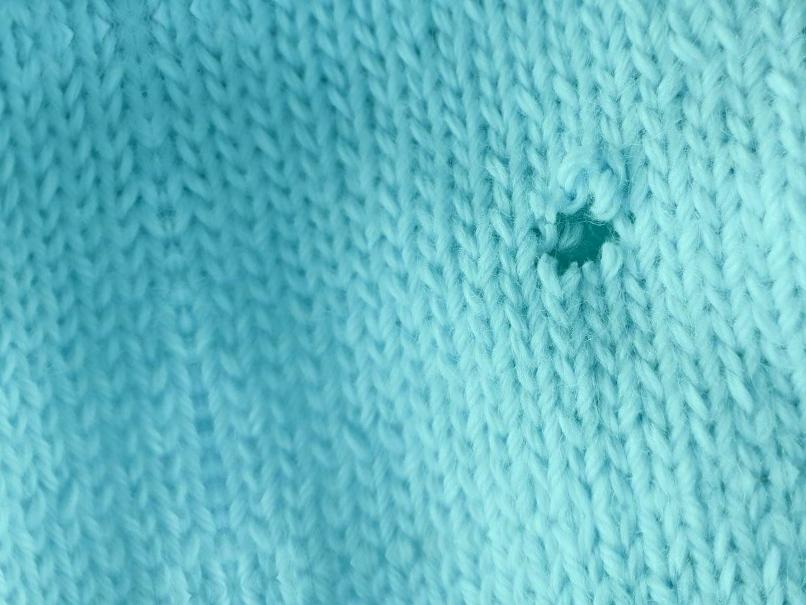hole: (528, 194, 635, 290)
